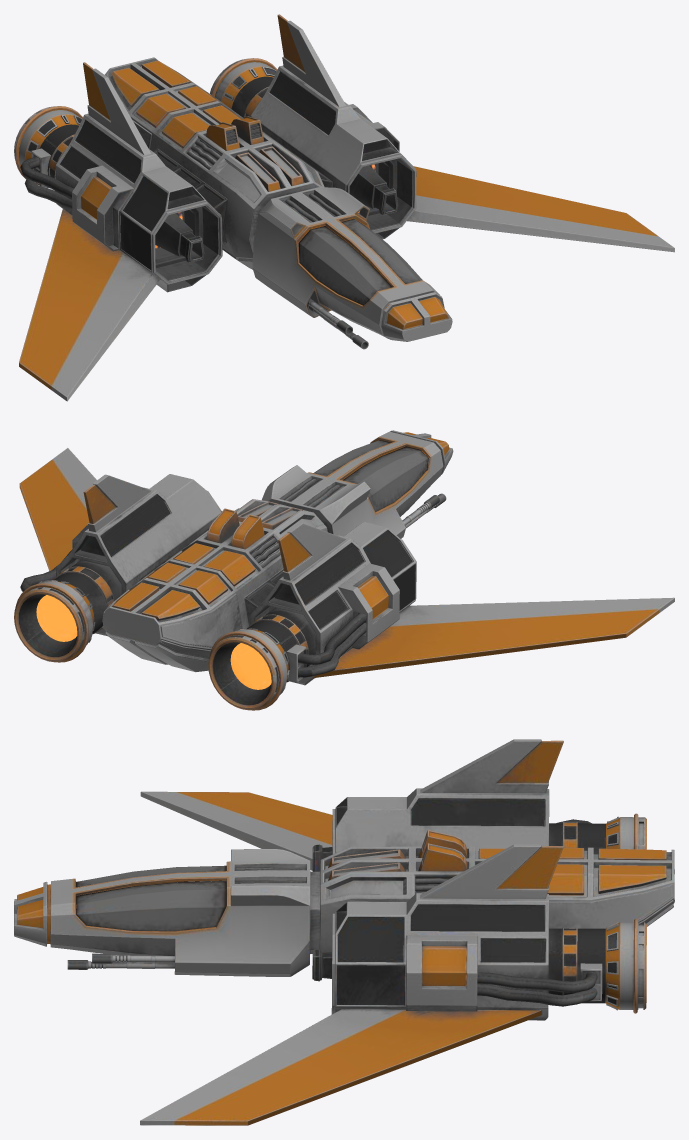
Rendered from spaceship.backup.glb.
3 renders of one model, top to bottom at view 1: azimuth 30°, elevation 25°; view 2: azimuth 150°, elevation 25°; view 3: azimuth 270°, elevation 25°, orthographic. The views are drawn at different scales.
Visible parts, largest first — view 1: Starship_Material_003_0; view 2: Starship_Material_003_0; view 3: Starship_Material_003_0.
Boxes of the visible parts, left/top/right/bottom form: Starship_Material_003_0: left=14, top=14, right=674, bottom=401; Starship_Material_003_0: left=14, top=430, right=674, bottom=710; Starship_Material_003_0: left=14, top=739, right=674, bottom=1125.
Bounding box in the file's own units: 1194 × 300 × 1008.
Materials: 1 (1 with a texture image).
